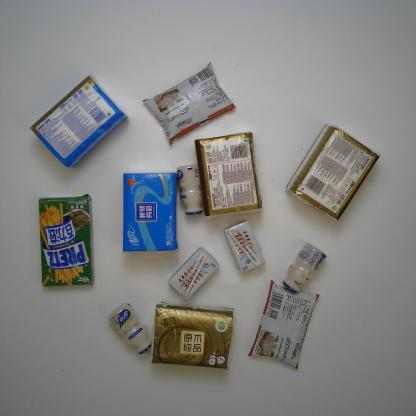Dessert: (37, 194, 95, 288)
Milk: (166, 244, 219, 302), (108, 297, 152, 355), (279, 242, 327, 294), (223, 218, 266, 274), (178, 165, 205, 217)
Seasoner: (140, 63, 235, 145), (248, 277, 320, 370)
Tissue: (27, 74, 132, 170), (287, 123, 381, 223), (193, 131, 264, 219), (148, 301, 235, 368), (121, 172, 179, 254)
